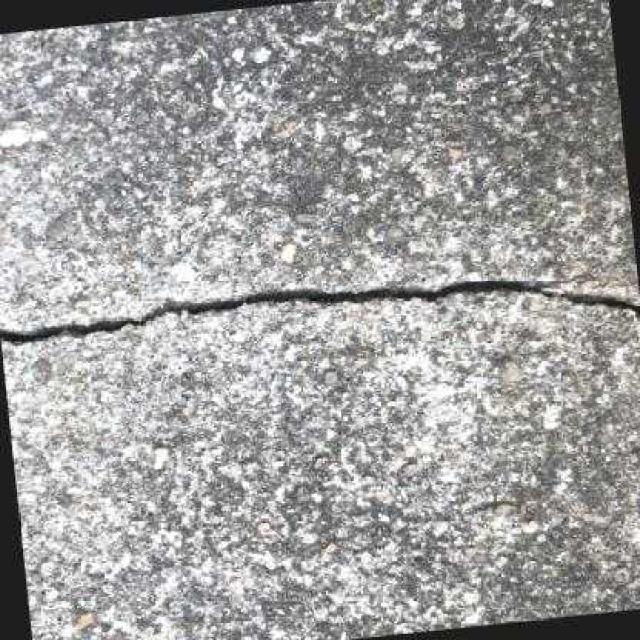D00: (0, 277, 640, 344)
